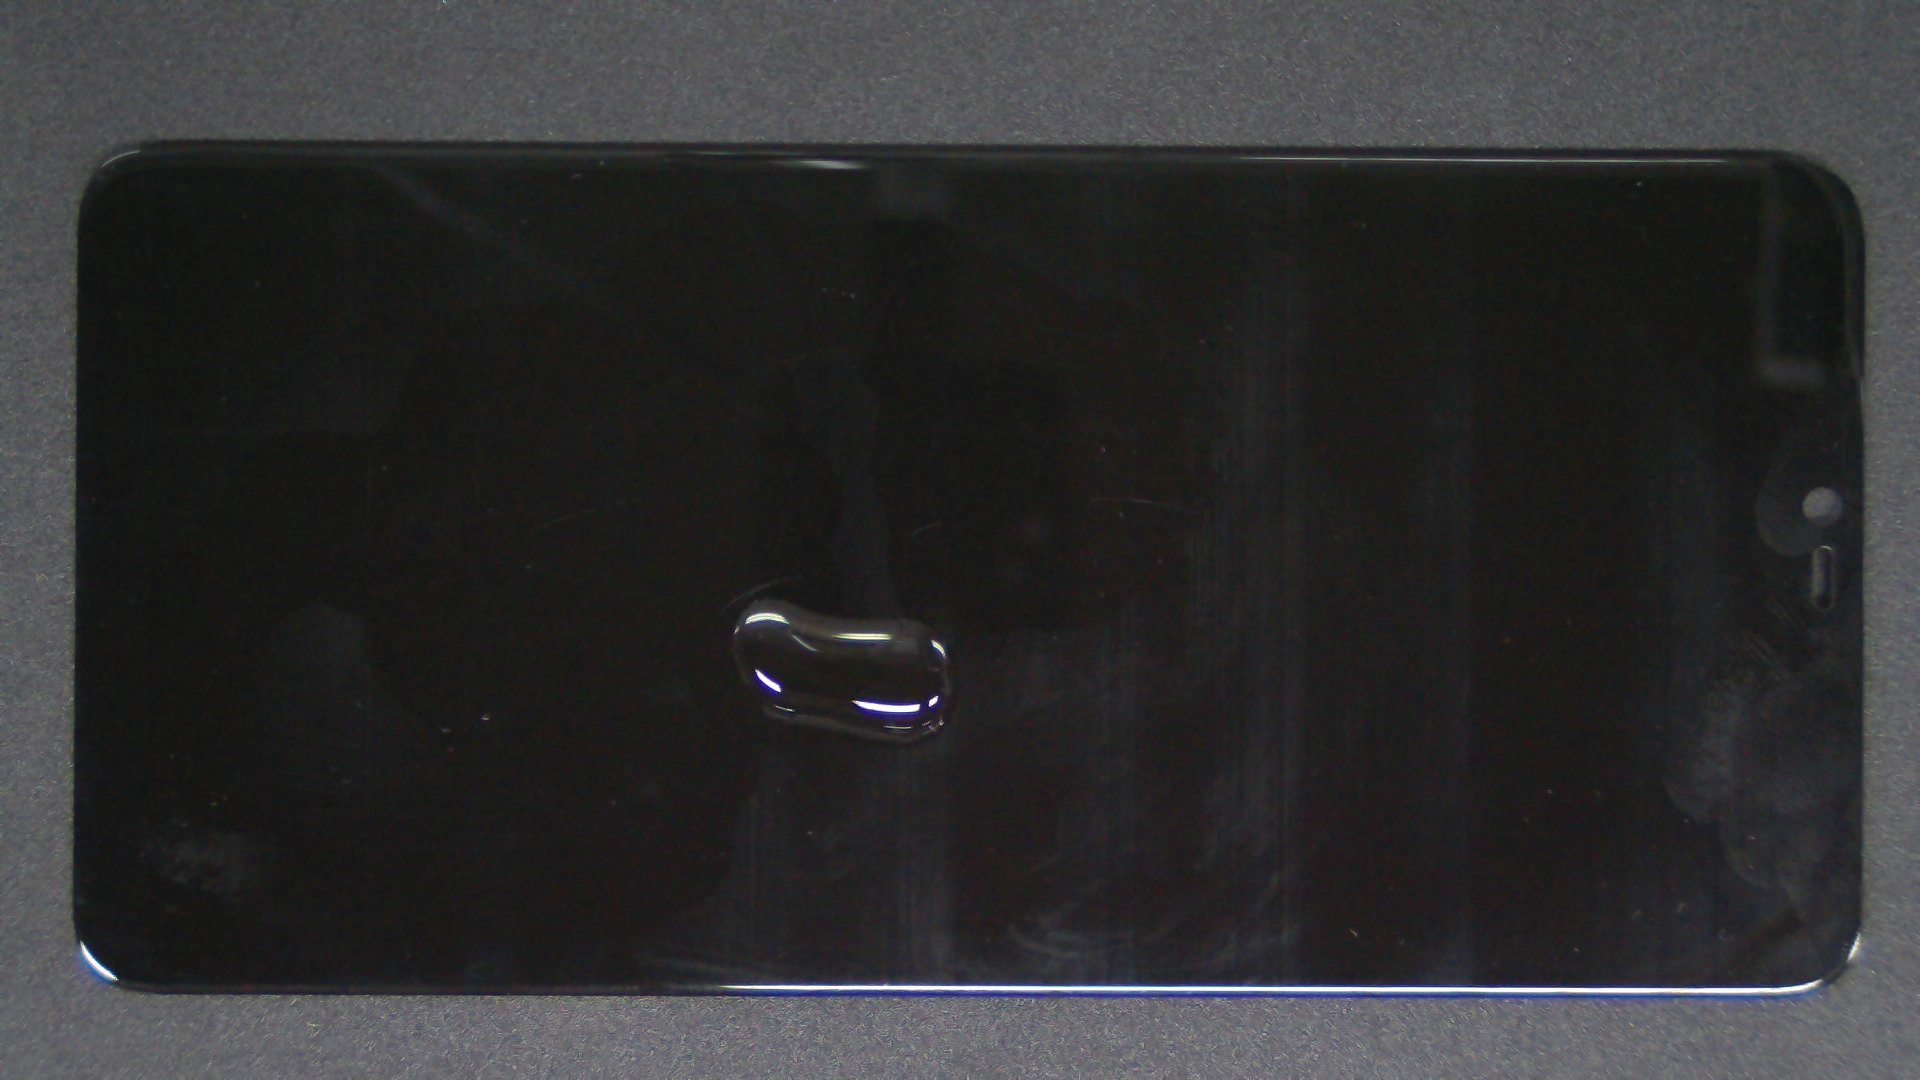defect: (728, 596, 951, 744)
